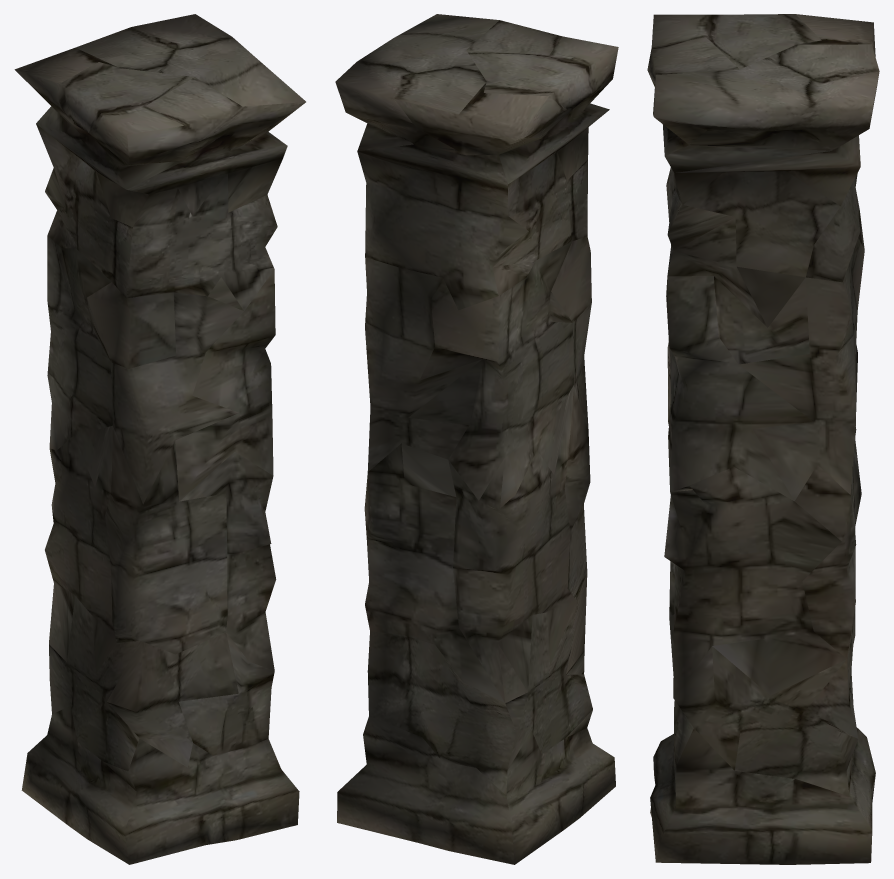
The model's file is v2_pillar_ready.glb.
The picture shows the model from 3 angles, left to right: view 1: azimuth 30°, elevation 25°; view 2: azimuth 150°, elevation 25°; view 3: azimuth 270°, elevation 25°; orthographic projection. The views are drawn at different scales.
Parts seen in each view (by area): view 1: Module; view 2: Module; view 3: Module.
Part boxes in pixels (box(x1,y1,x2,y2)): Module: box(14, 14, 305, 864); Module: box(335, 14, 618, 864); Module: box(647, 14, 879, 864).
Size of the model in its own units: 1.81 by 6.71 by 1.85.
Materials: 1 (1 with a texture image).
